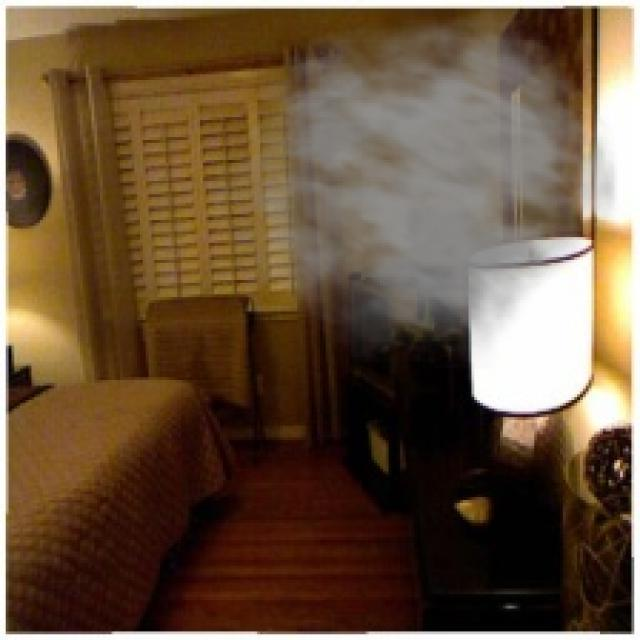Smoke: (203, 6, 620, 368)
